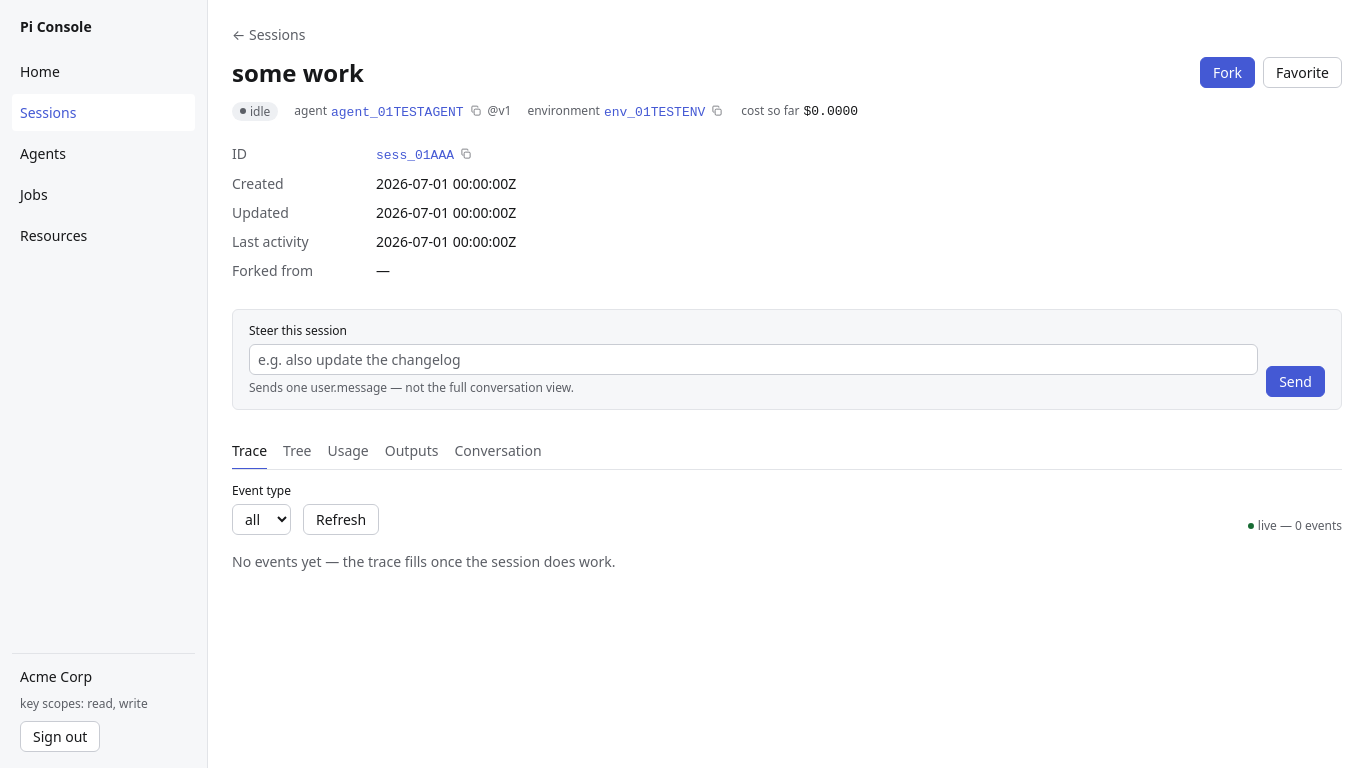
steering composer (W4 step 3) › idle + write: Send posts user.message and clears the input
Expected: the element named "Session detail" is shown, [232, 434, 1342, 470]
Type "also update the changelog" into the field labelled "Steer this session" at (754, 360), box [249, 344, 1258, 375]
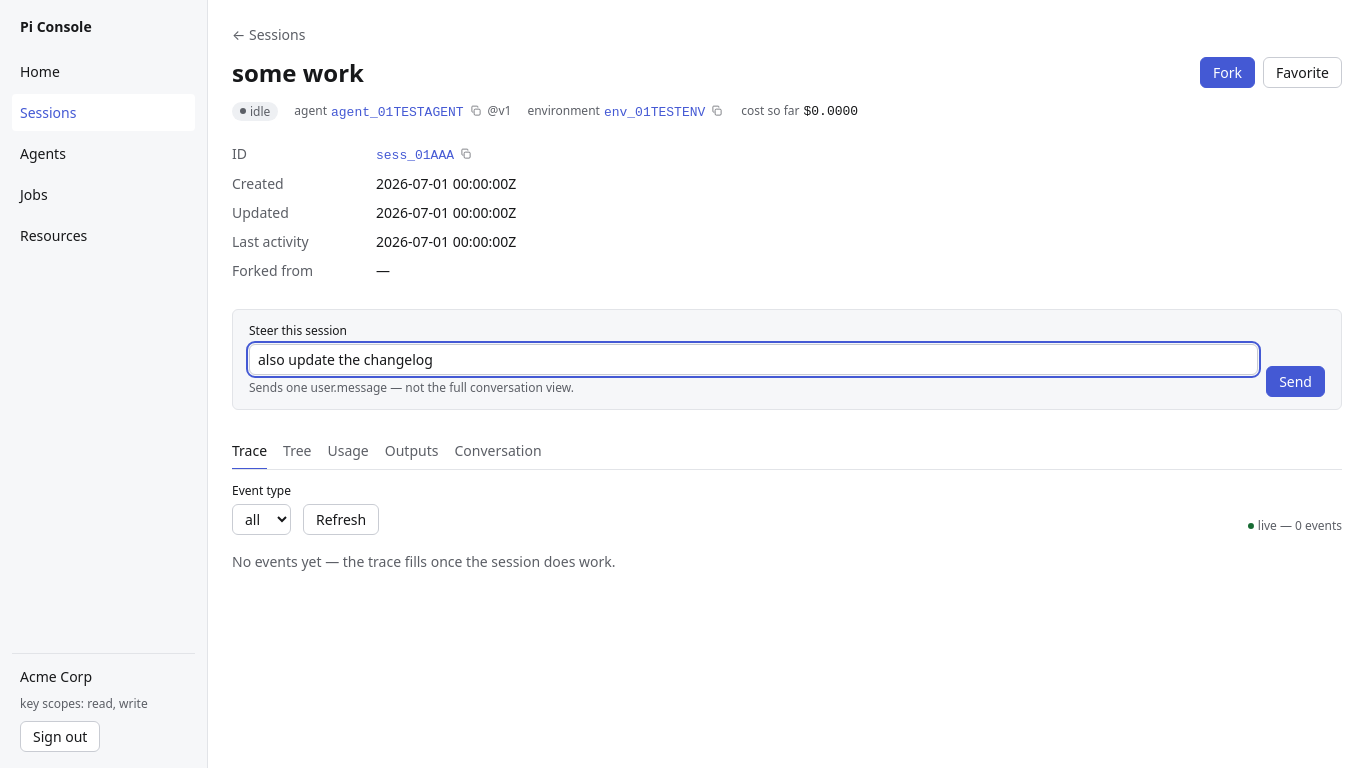
Click the button "Send" at (1296, 382), box [1266, 366, 1325, 397]
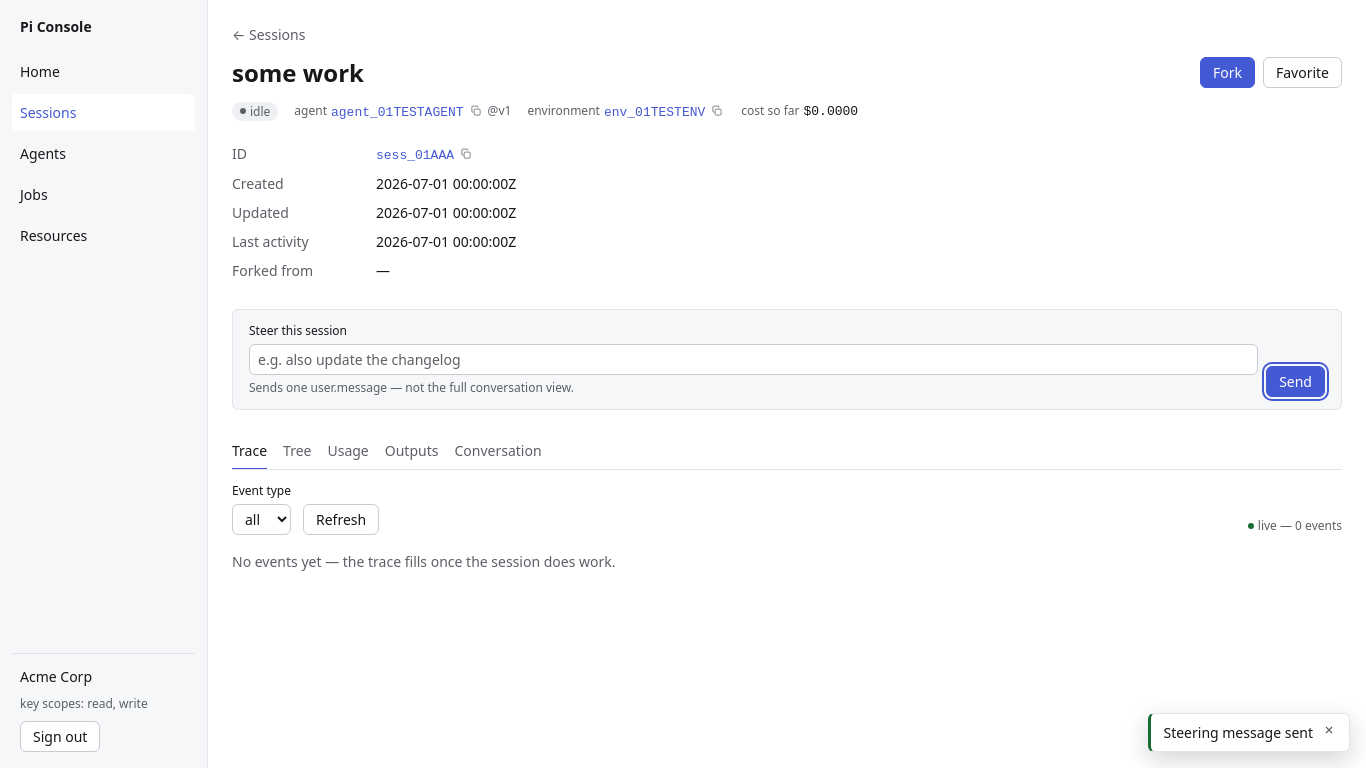
Expected: the text "Steering message sent" is shown, [1164, 722, 1313, 743]
Expected: the field labelled "Steer this session" is empty, [249, 344, 1258, 375]
